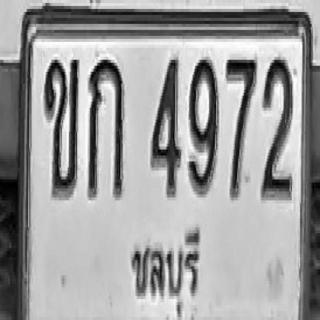A01: (88, 57, 124, 197)
A02: (43, 57, 79, 197)
N02: (260, 55, 292, 199)
N04: (150, 55, 180, 196)
N07: (226, 55, 256, 199)
N09: (189, 57, 218, 194)
P13: (125, 224, 202, 317)
